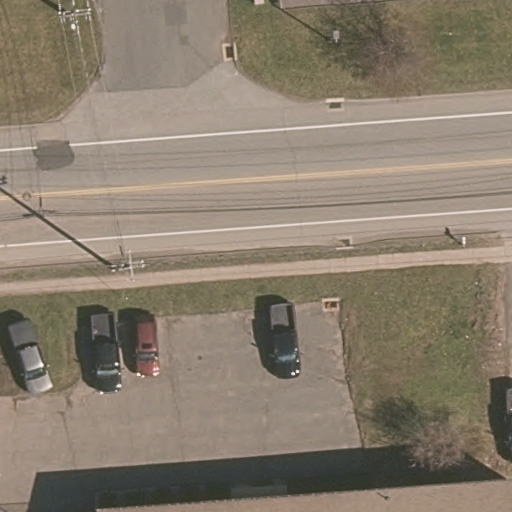DT: (97, 240, 150, 283), (55, 2, 94, 36)
